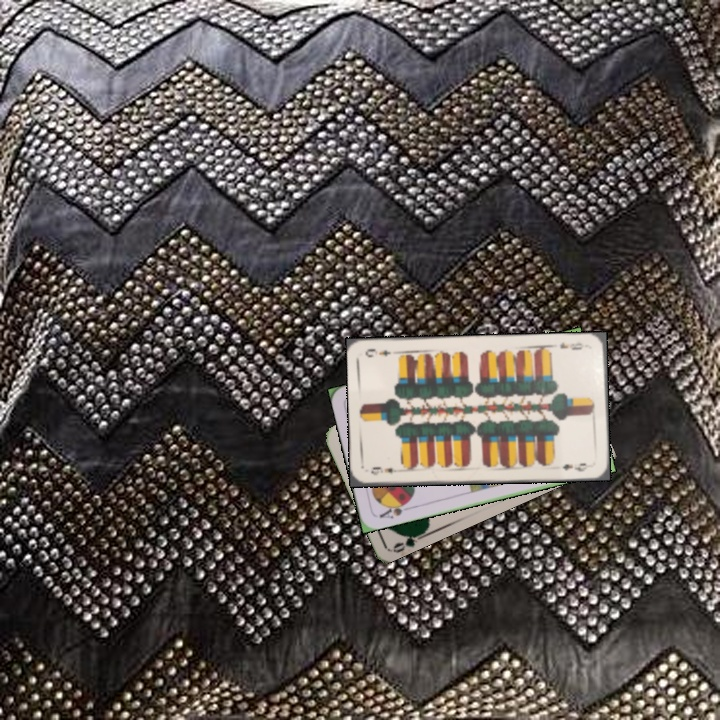E9: (367, 462, 405, 478), (556, 338, 587, 352)
GO: (389, 528, 428, 555)
SA: (375, 497, 414, 521)
